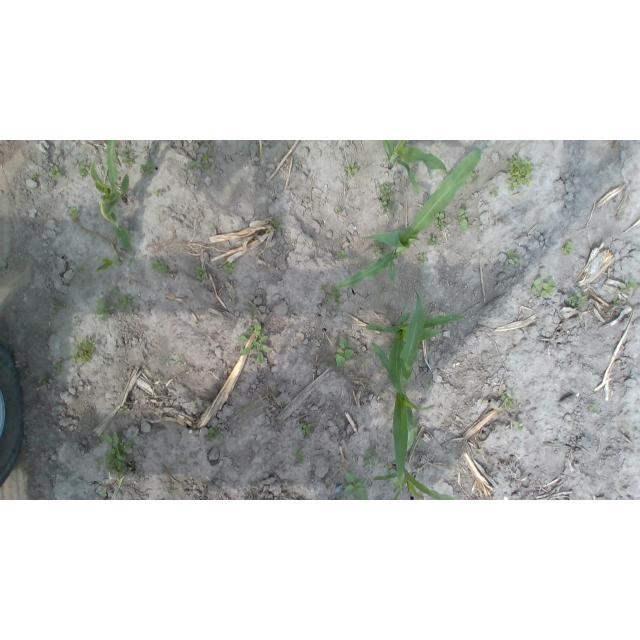Maize: (336, 148, 481, 287), (369, 342, 436, 495), (365, 288, 464, 382), (91, 140, 132, 248), (381, 140, 448, 196), (373, 462, 457, 500), (96, 258, 122, 273)
Weeds: (239, 322, 270, 363), (101, 431, 132, 472), (507, 154, 534, 191), (344, 472, 369, 500), (336, 337, 355, 367), (378, 182, 394, 214), (73, 340, 95, 362), (96, 299, 115, 321), (362, 446, 379, 467), (152, 257, 168, 276), (140, 160, 156, 177), (540, 278, 555, 296), (502, 392, 517, 409), (121, 149, 136, 166), (572, 291, 587, 305), (435, 212, 446, 231), (68, 206, 80, 223), (292, 448, 304, 465), (196, 266, 208, 282), (459, 209, 469, 228), (202, 153, 214, 167), (562, 240, 573, 255), (223, 262, 236, 274), (119, 296, 131, 309), (490, 186, 502, 198), (345, 163, 358, 174), (625, 280, 639, 290), (209, 427, 220, 439), (507, 251, 518, 263), (372, 241, 384, 252), (416, 253, 429, 263), (188, 160, 202, 169), (332, 288, 341, 302), (532, 279, 540, 294), (49, 166, 59, 177), (302, 425, 312, 436), (54, 360, 63, 372), (471, 170, 480, 182), (615, 284, 625, 294), (79, 165, 87, 177), (515, 423, 524, 433), (120, 406, 130, 415), (39, 376, 48, 385), (338, 251, 347, 260), (53, 298, 61, 308), (249, 304, 256, 315), (428, 239, 438, 246), (588, 403, 597, 410), (613, 299, 621, 306), (273, 219, 280, 227), (334, 209, 343, 215), (113, 288, 120, 295), (33, 173, 39, 181), (77, 268, 86, 273), (155, 189, 162, 194), (322, 284, 327, 291), (326, 296, 330, 301)
